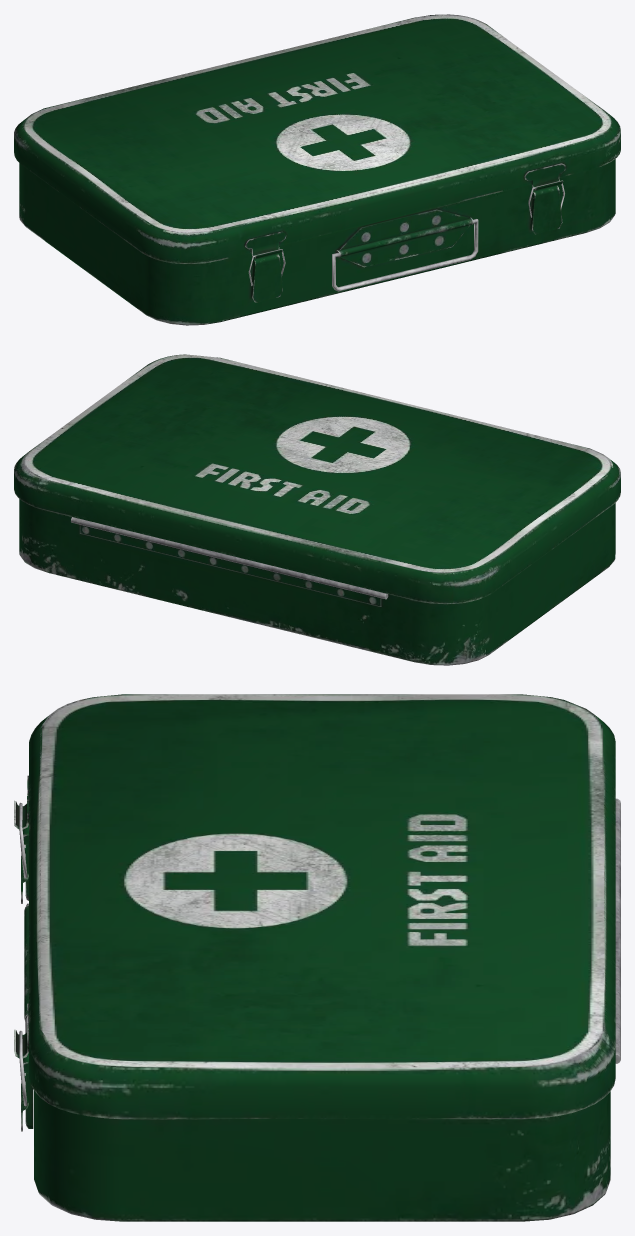
File: medical_box.glb
3 renders of one model, top to bottom at view 1: azimuth 30°, elevation 25°; view 2: azimuth 150°, elevation 25°; view 3: azimuth 270°, elevation 25°, orthographic. The views are drawn at different scales.
Visible parts, largest first — view 1: medical_box_latch; view 2: medical_box_latch; view 3: medical_box_latch.
Part boxes in pixels (left/top/right/bottom): medical_box_latch: left=14, top=14, right=620, bottom=325; medical_box_latch: left=14, top=354, right=620, bottom=665; medical_box_latch: left=14, top=694, right=620, bottom=1221.
Bounding box in the file's own units: 0.5255 × 0.0975 × 0.3501.
1 material, 1 textured.
